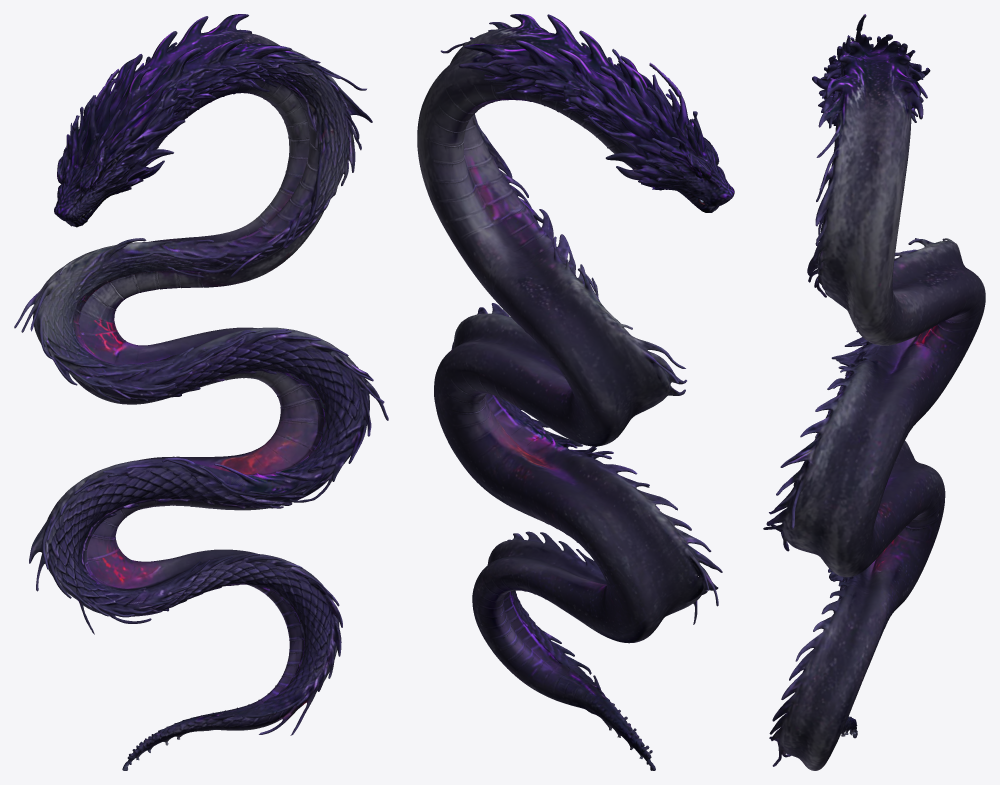
The model's file is erebane.glb.
3 views of the same model, side by side, from view 1: azimuth 30°, elevation 25°; view 2: azimuth 150°, elevation 25°; view 3: azimuth 270°, elevation 25° (orthographic). The views are drawn at different scales.
Visible parts, largest first — view 1: tripo_node_59ad412f-aeff-4eb2-b02d-5afe0f76b227; view 2: tripo_node_59ad412f-aeff-4eb2-b02d-5afe0f76b227; view 3: tripo_node_59ad412f-aeff-4eb2-b02d-5afe0f76b227.
Boxes of the visible parts, bbox=[...] form: tripo_node_59ad412f-aeff-4eb2-b02d-5afe0f76b227: bbox=[14, 14, 388, 770]; tripo_node_59ad412f-aeff-4eb2-b02d-5afe0f76b227: bbox=[417, 14, 734, 770]; tripo_node_59ad412f-aeff-4eb2-b02d-5afe0f76b227: bbox=[763, 14, 985, 770].
Bounding box in the file's own units: 0.4377 × 0.9586 × 0.2635.
1 material, 1 textured.
